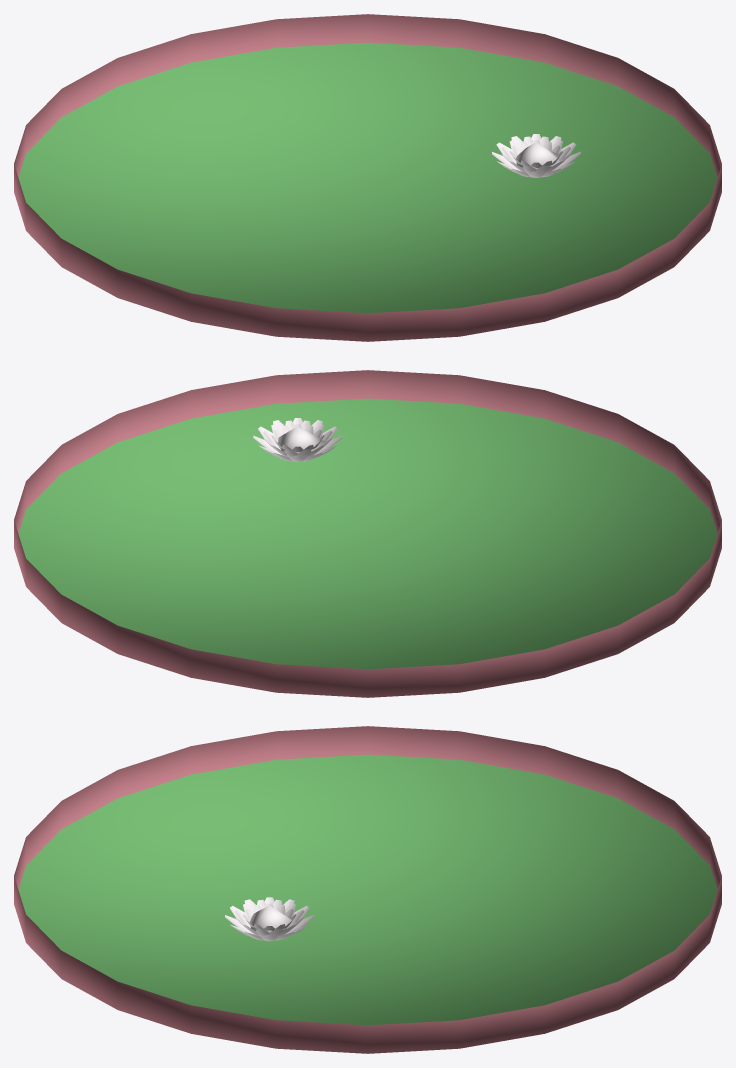
File: aquatic_victoria_lily.glb
The picture shows the model from 3 angles, top to bottom: view 1: azimuth 30°, elevation 25°; view 2: azimuth 150°, elevation 25°; view 3: azimuth 270°, elevation 25°; orthographic projection.
Parts seen in each view (by area): view 1: Flora_Victoria_Lily; view 2: Flora_Victoria_Lily; view 3: Flora_Victoria_Lily.
Part boxes in pixels (left/top/right/bottom): Flora_Victoria_Lily: left=14, top=14, right=721, bottom=341; Flora_Victoria_Lily: left=14, top=370, right=721, bottom=697; Flora_Victoria_Lily: left=14, top=726, right=721, bottom=1053.
Size of the model in its own units: 1.8 by 0.17 by 1.8.
